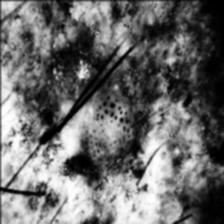Potentially Malignant Skin Tumors: (74, 86, 144, 172)
